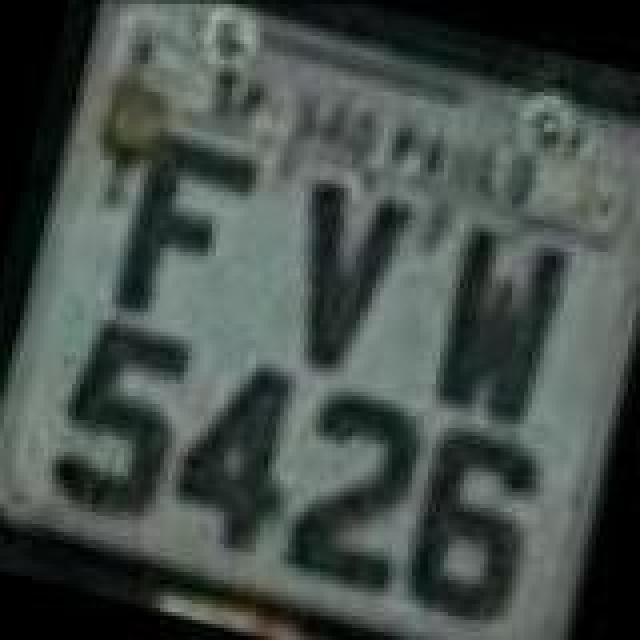2: (274, 384, 430, 596)
4: (162, 352, 318, 564)
5: (32, 308, 200, 540)
6: (396, 416, 548, 628)
F: (106, 128, 262, 340)
V: (266, 172, 422, 384)
W: (418, 218, 574, 434)
